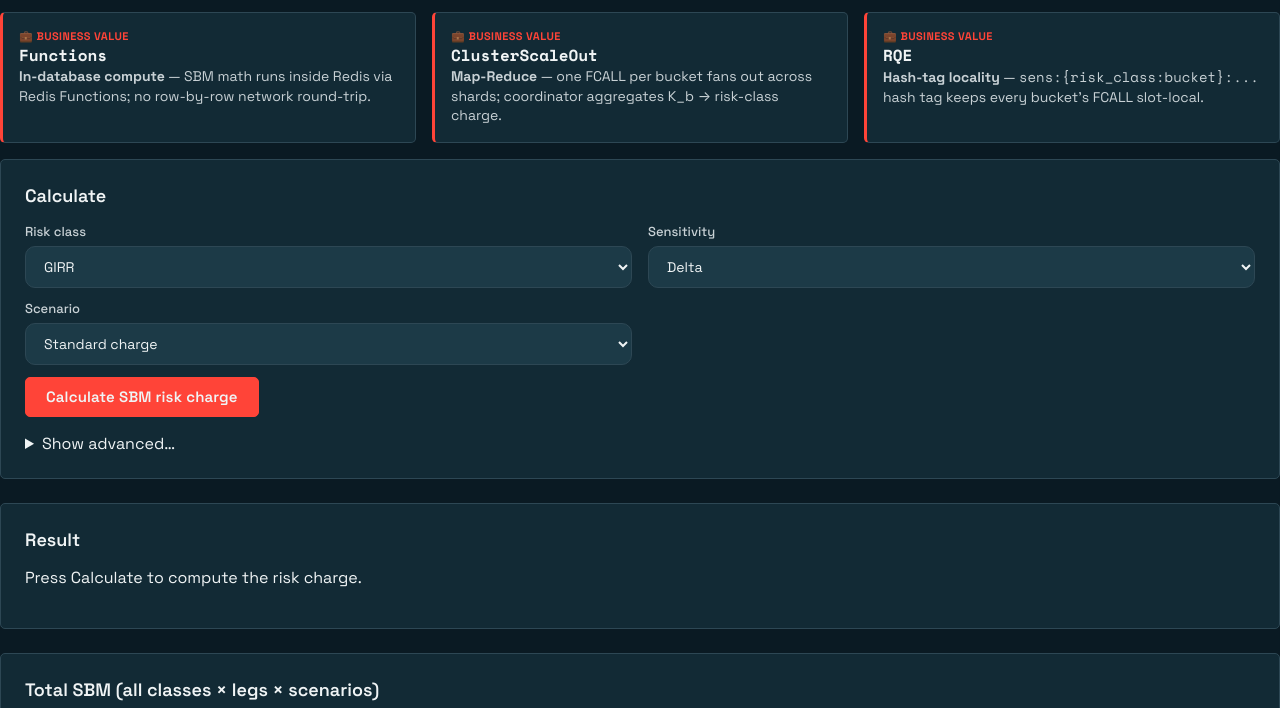
Test case: CalcPanel Wave 5.18 polish + drill-down › Wave 6.47.B: GIRR Delta drilldown renders enriched risk_value sparkline and tenor-keyed weight cell
The width and height of the screenshot is (1280, 708).
Step 1. Click the button "Calculate SBM risk charge" → (142, 397), box [25, 377, 259, 417]
(page scrolled)
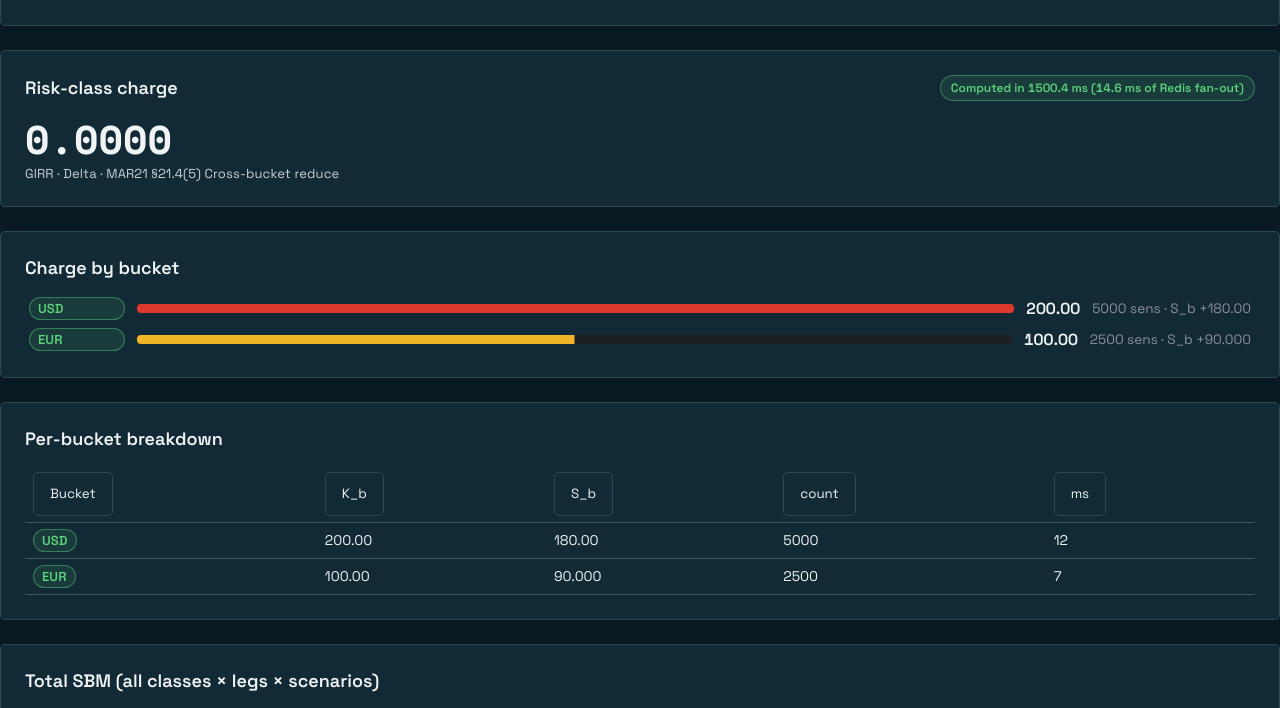
Expected: the text "0.0000" is shown, [25, 117, 172, 161]
Step 2. Click the button with test id "bucket-chart-row" that starts with "USD" → (640, 308), box [25, 295, 1255, 322]
(page scrolled)
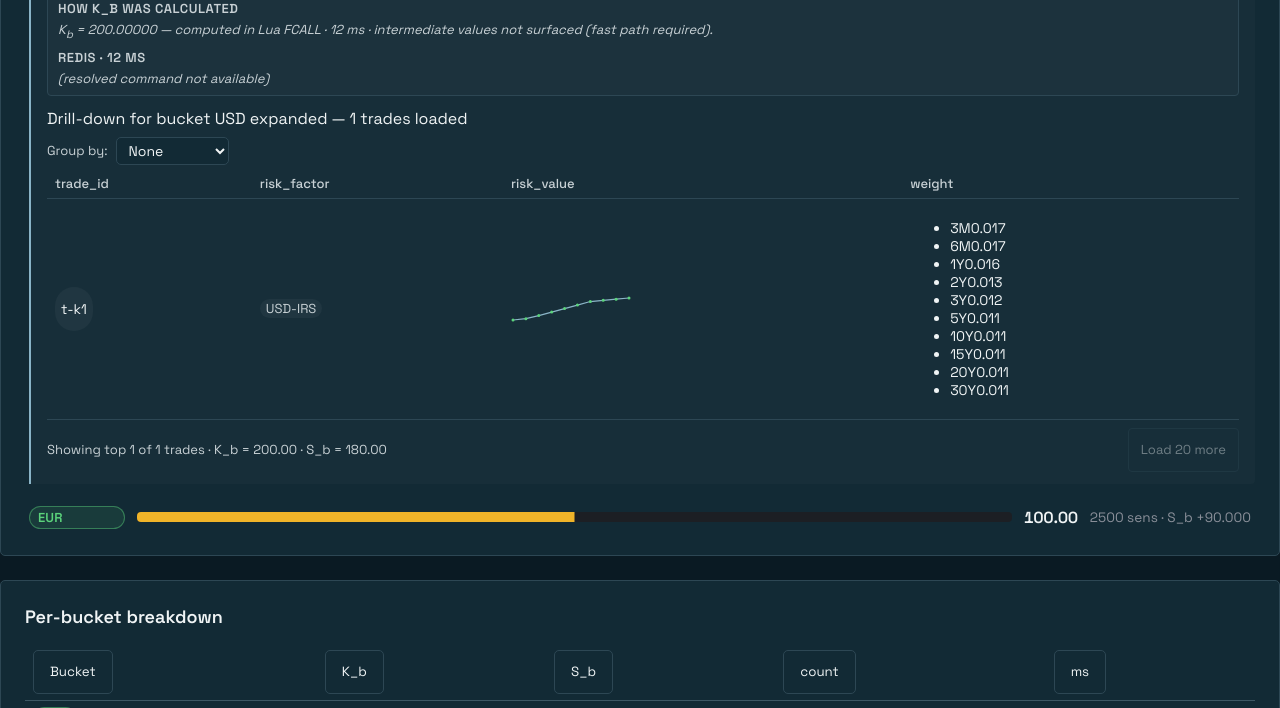
Expected: the row with test id "drilldown-row" is shown, [47, 198, 1239, 419]
Expected: the list with test id "drilldown-weight-tenor" shows "3M", [950, 219, 971, 237]
Expected: the list with test id "drilldown-weight-tenor" shows "0.017", [971, 219, 1006, 237]
